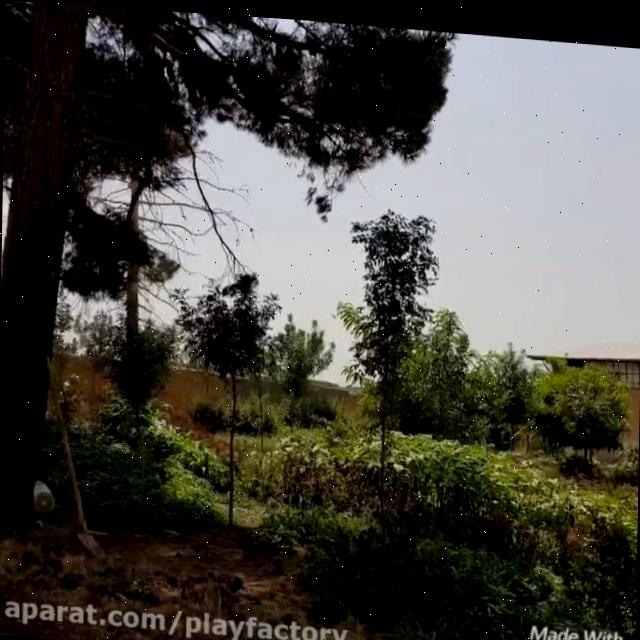drone: (326, 303, 341, 318)
